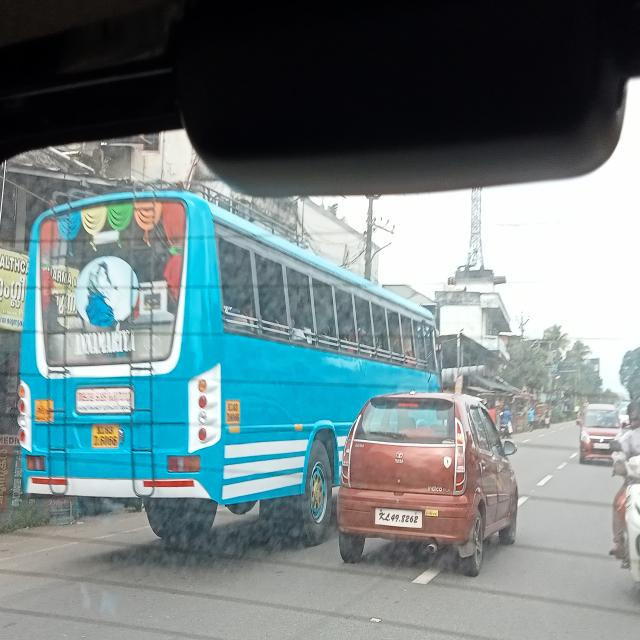Number_Plate_Detected: (374, 504, 423, 530), (89, 424, 120, 449)
